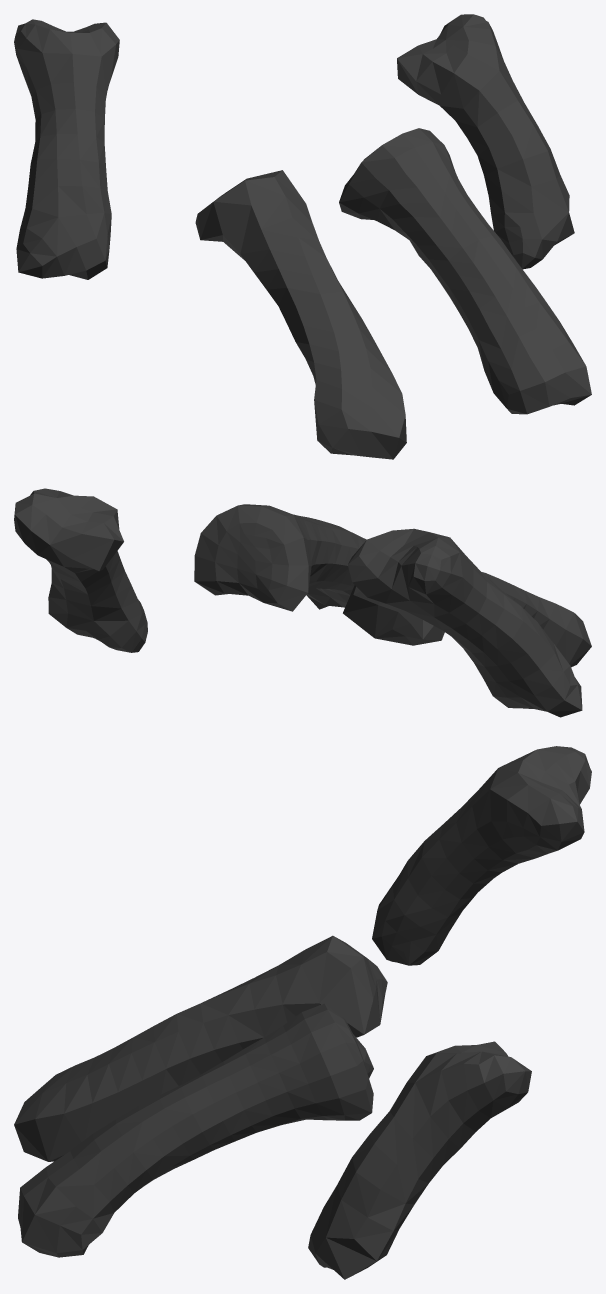
3 views of the same model, one above another, from view 1: azimuth 30°, elevation 25°; view 2: azimuth 150°, elevation 25°; view 3: azimuth 270°, elevation 25° (orthographic). The views are drawn at different scales.
Visible parts, largest first — view 1: P1s; view 2: P1s; view 3: P1s.
Part boxes in pixels (bbox=[...]): P1s: bbox=[14, 14, 591, 459]; P1s: bbox=[14, 488, 591, 717]; P1s: bbox=[14, 746, 591, 1279].
Bounding box in the file's own units: 2.85 × 1.55 × 2.37.
Materials: 1 (1 with a texture image).
